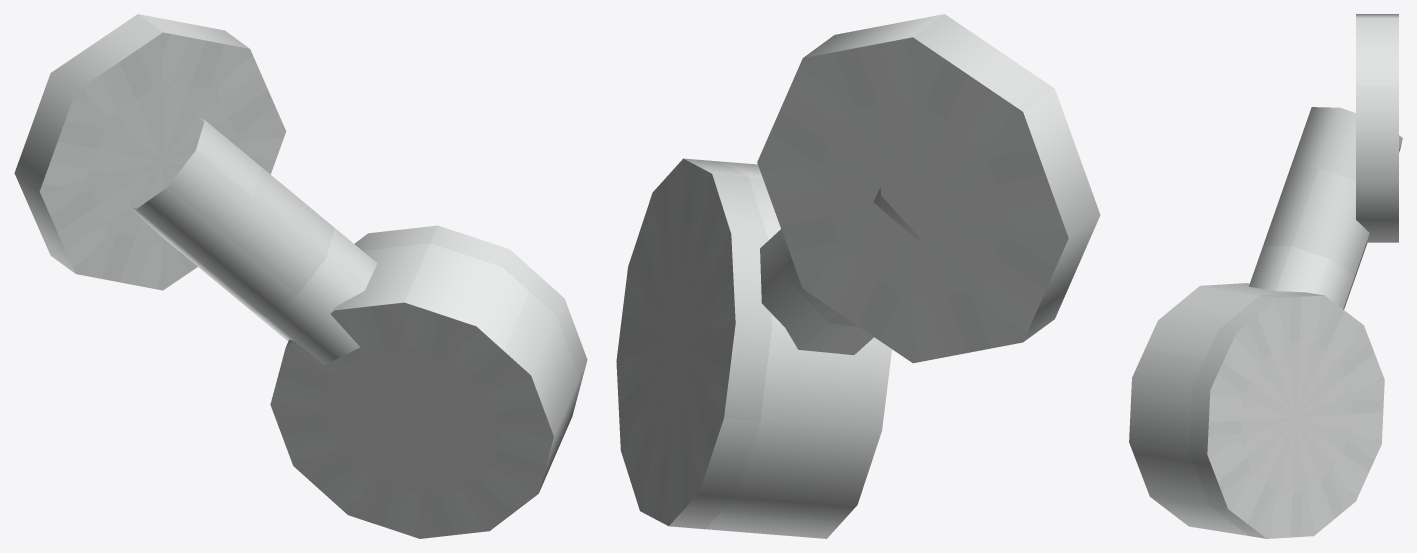
Rendered from nycsignalarm_stub_232.obj.
3 views of the same model, side by side, from view 1: azimuth 30°, elevation 25°; view 2: azimuth 150°, elevation 25°; view 3: azimuth 270°, elevation 25° (orthographic). The views are drawn at different scales.
Parts seen in each view (by area): view 1: nycsignalarm_stub_232; view 2: nycsignalarm_stub_232; view 3: nycsignalarm_stub_232.
Part boxes in pixels (x1,y1,x2,y2): nycsignalarm_stub_232: (14, 14, 587, 538); nycsignalarm_stub_232: (616, 14, 1100, 538); nycsignalarm_stub_232: (1129, 14, 1402, 538).
Bounding box in the file's own units: 0.654 × 0.6786 × 0.3937.
